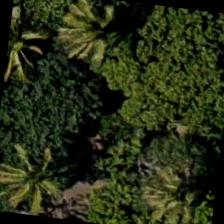Kelapa_Sawit: (34, 0, 133, 72), (0, 136, 74, 219), (2, 0, 60, 90)
